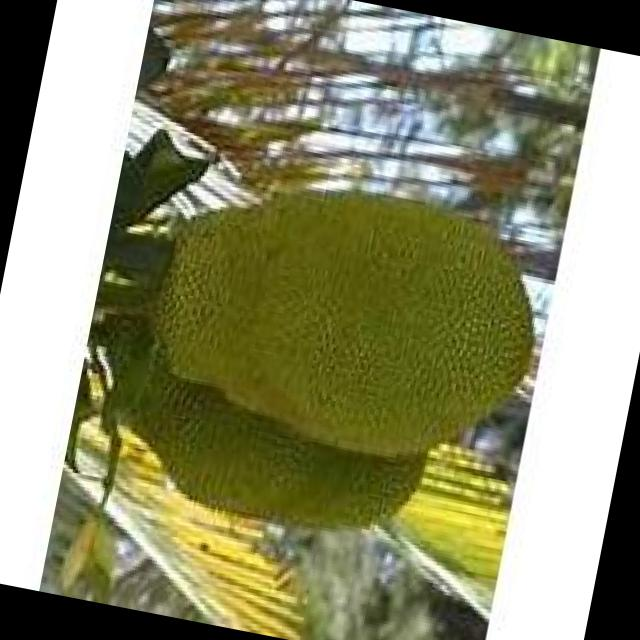Fruit: (103, 120, 570, 508)
